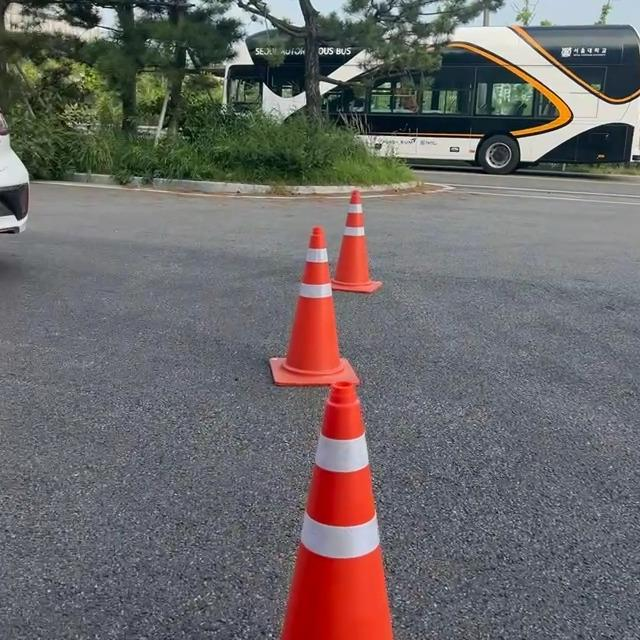fallen_object: (249, 353, 498, 640), (245, 202, 396, 446), (295, 147, 442, 325)
